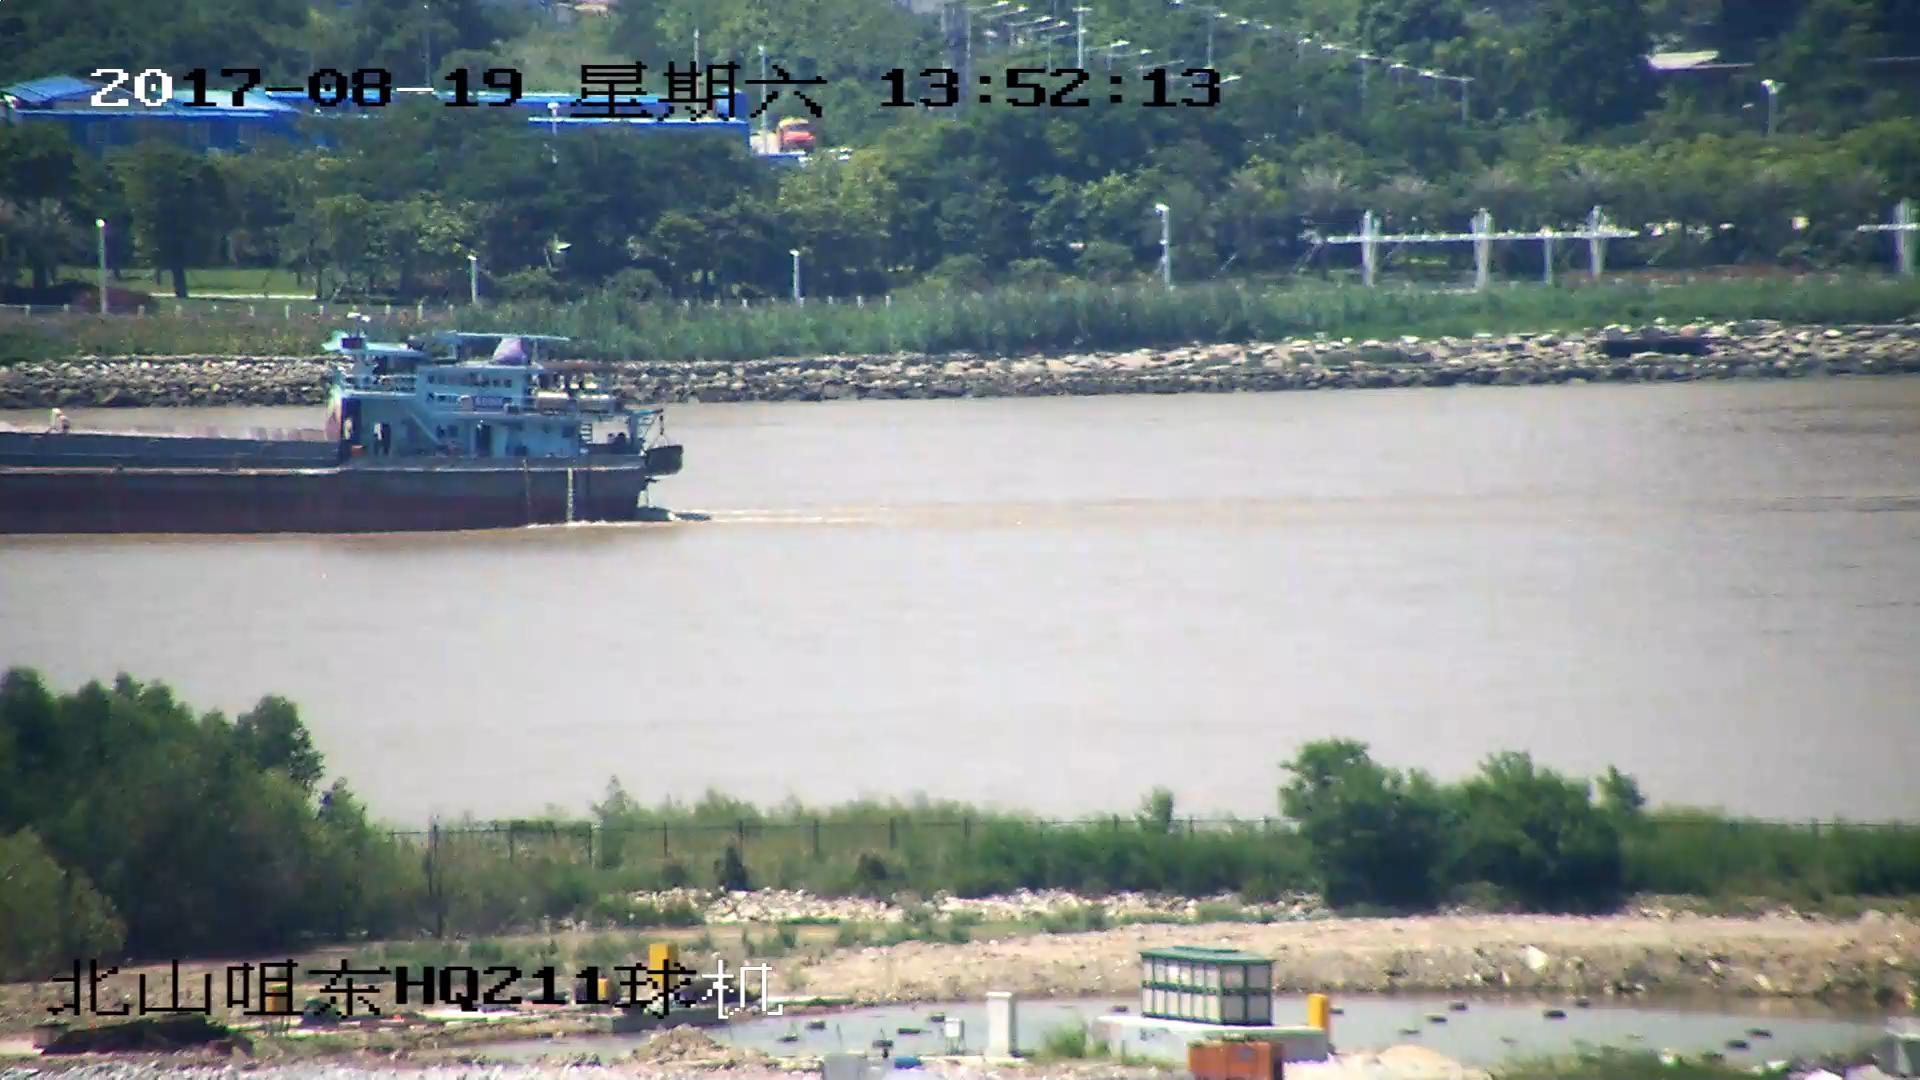Ship: (3, 315, 683, 541)
